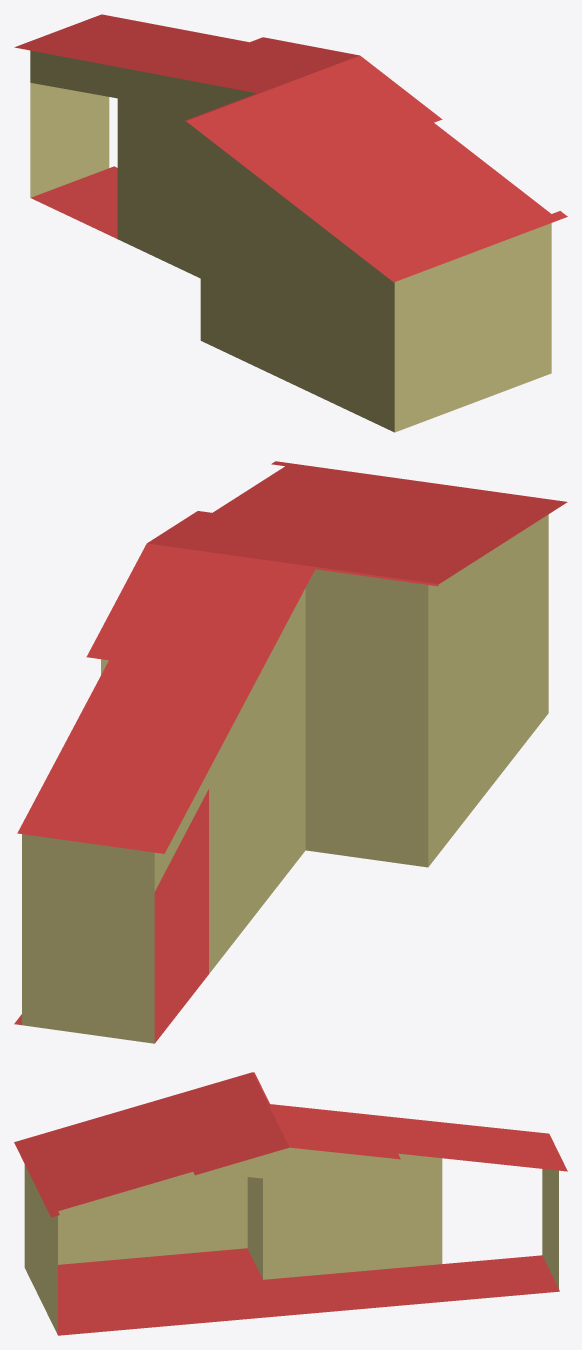
3 views of the same model, one above another, from view 1: azimuth 30°, elevation 25°; view 2: azimuth 150°, elevation 25°; view 3: azimuth 270°, elevation 25° (orthographic). The views are drawn at different scales.
Size of the model in its own units: 12.61 by 30.57 by 10.45.
